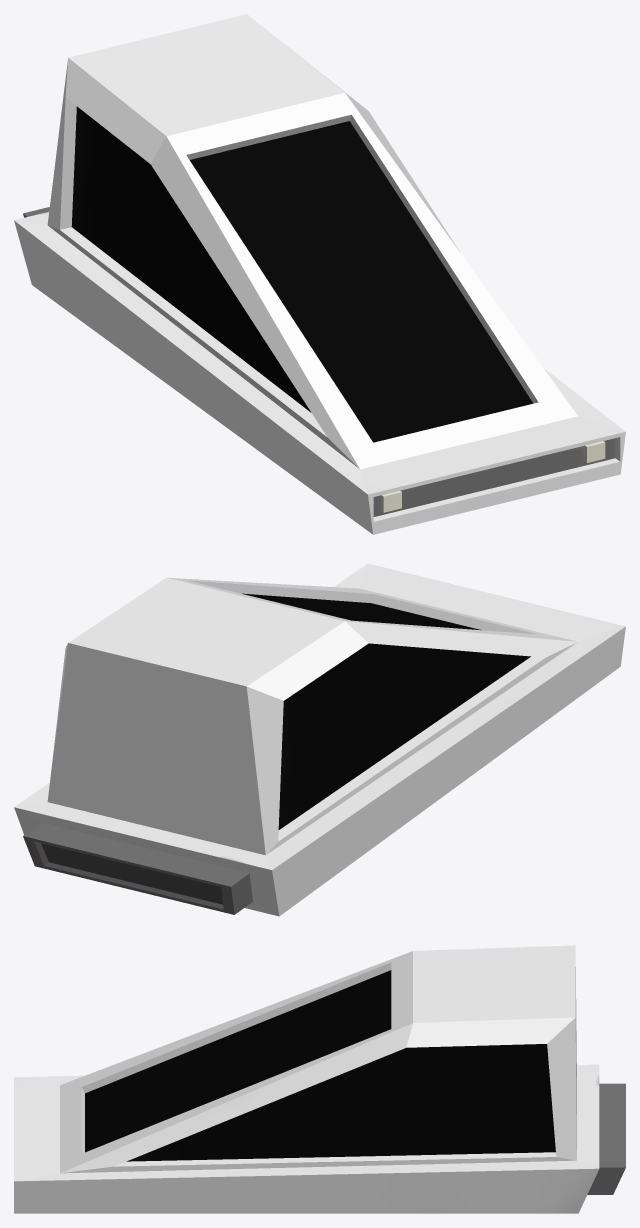
The model's file is Car1_Asset.fbx.
The picture shows the model from 3 angles, top to bottom: view 1: azimuth 30°, elevation 25°; view 2: azimuth 150°, elevation 25°; view 3: azimuth 270°, elevation 25°; orthographic projection. The views are drawn at different scales.
Visible parts, largest first — view 1: Car1_Asset; view 2: Car1_Asset; view 3: Car1_Asset.
Boxes of the visible parts, left/top/right/bottom form: Car1_Asset: left=14, top=14, right=625, bottom=534; Car1_Asset: left=14, top=563, right=625, bottom=916; Car1_Asset: left=14, top=945, right=625, bottom=1213.
Size of the model in its own units: 8.3 by 6.77 by 20.61.
Materials: 1 (1 with a texture image).
